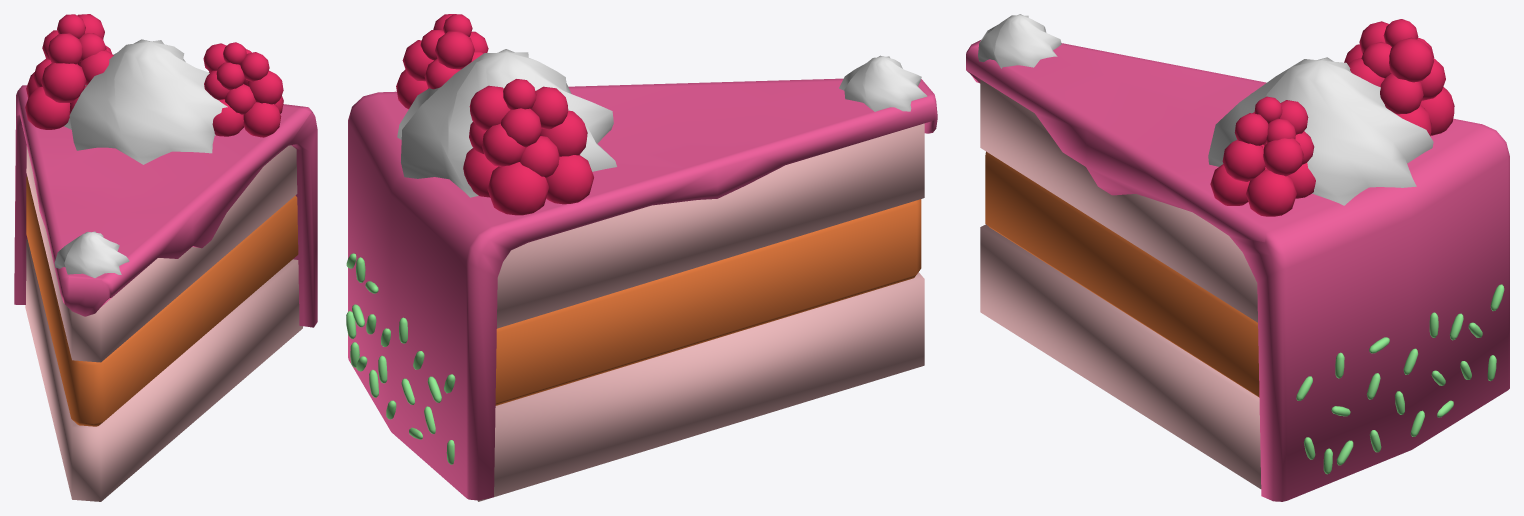
Rendered from PieceCake.fbx.
3 renders of one model, left to right at view 1: azimuth 30°, elevation 25°; view 2: azimuth 150°, elevation 25°; view 3: azimuth 270°, elevation 25°, orthographic. The views are drawn at different scales.
Visible parts, largest first — view 1: Streusel; view 2: Streusel; view 3: Streusel.
Part boxes in pixels (<box>): Streusel: <box>14,14,317,501</box>; Streusel: <box>346,14,937,501</box>; Streusel: <box>966,14,1509,501</box>.
Size of the model in its own units: 238 by 196 by 256.
